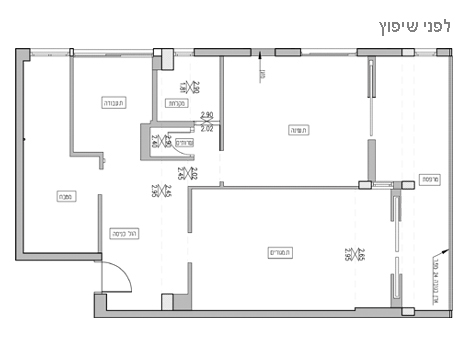door: (110, 258, 139, 298)
wall: (95, 311, 400, 316), (17, 47, 24, 259), (195, 49, 253, 55), (368, 139, 376, 179)
